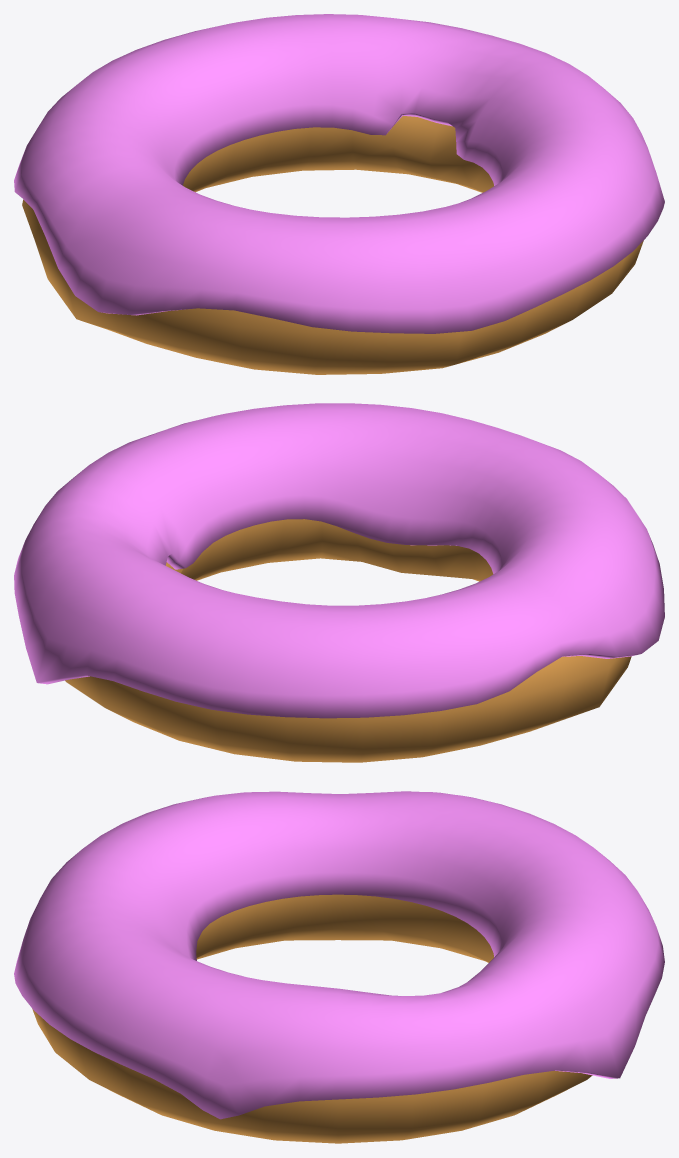
File: damian.fbx
3 renders of one model, top to bottom at view 1: azimuth 30°, elevation 25°; view 2: azimuth 150°, elevation 25°; view 3: azimuth 270°, elevation 25°, orthographic.
Parts seen in each view (by area): view 1: polewa, pączek; view 2: polewa, pączek; view 3: polewa, pączek.
Boxes of the visible parts, left/top/right/bottom form: polewa: left=14, top=14, right=664, bottom=333; pączek: left=22, top=115, right=643, bottom=374; polewa: left=14, top=403, right=664, bottom=718; pączek: left=65, top=519, right=631, bottom=762; polewa: left=14, top=791, right=664, bottom=1119; pączek: left=32, top=894, right=592, bottom=1143.
Size of the model in its own units: 25.31 by 6.45 by 25.2.
